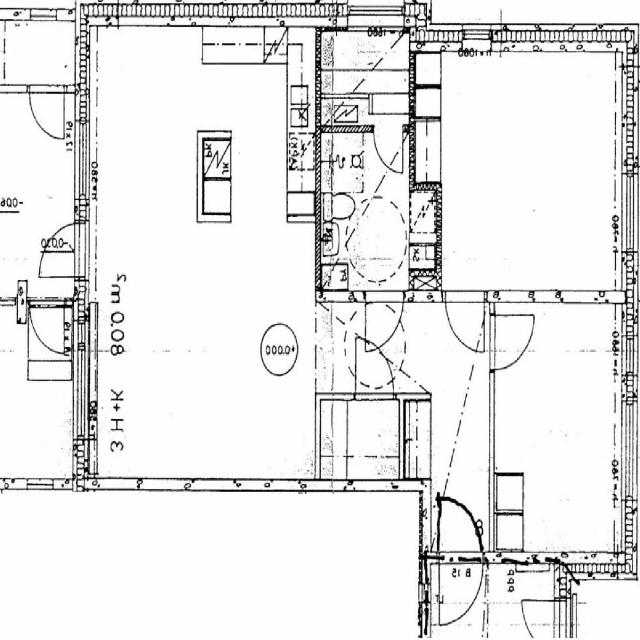door: (439, 491, 483, 563), (439, 552, 483, 624), (35, 223, 88, 278), (366, 290, 404, 356), (446, 291, 484, 356), (356, 340, 394, 401), (490, 317, 533, 369), (30, 300, 64, 355), (30, 85, 64, 140), (374, 126, 403, 172)
